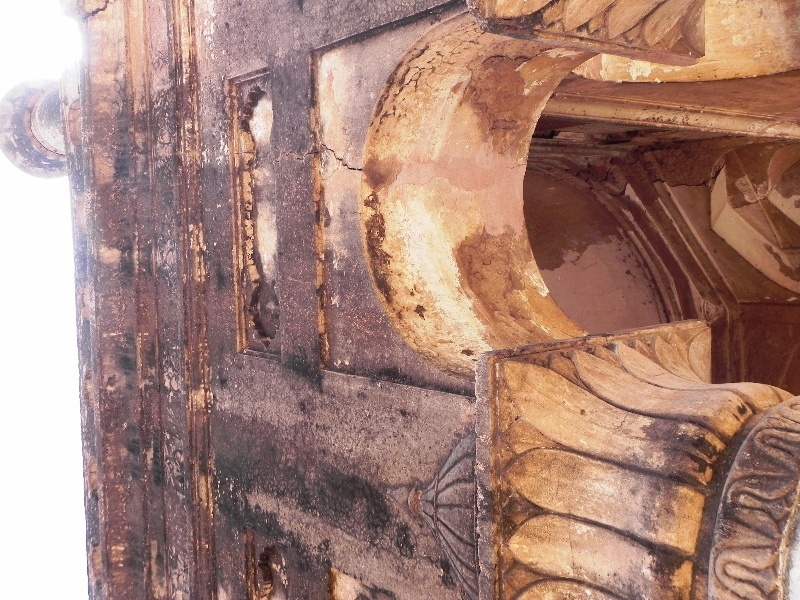Crack: (321, 142, 360, 173)
